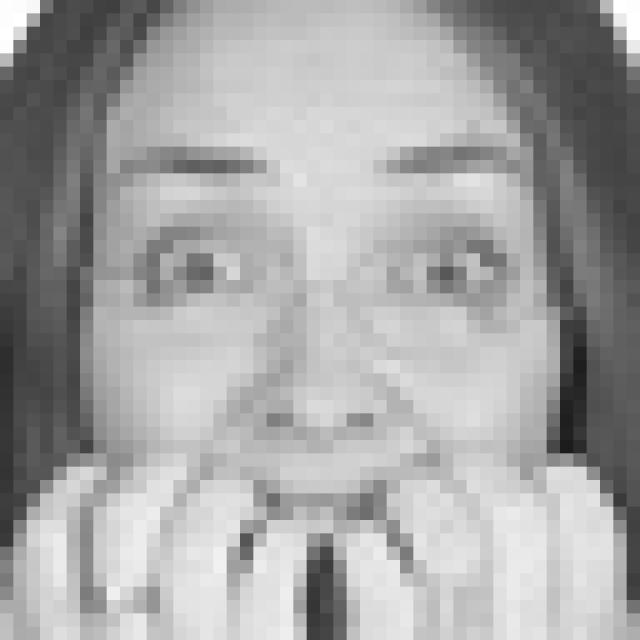fear: (121, 138, 540, 597)
